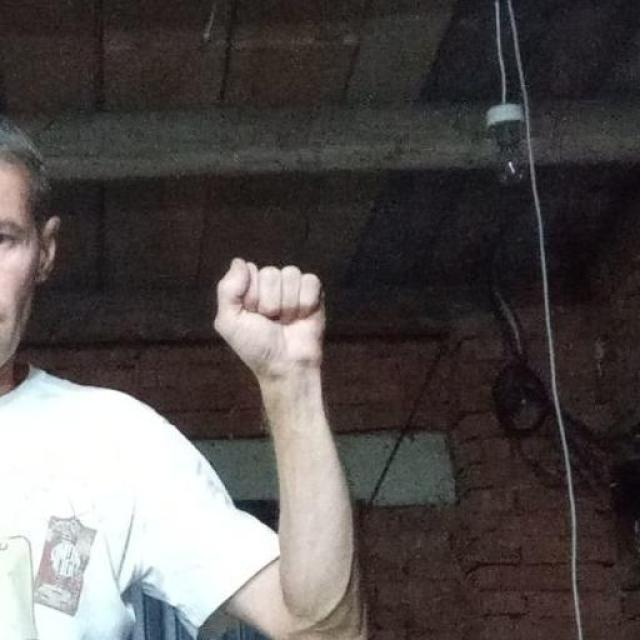hand: (212, 256, 326, 379)
